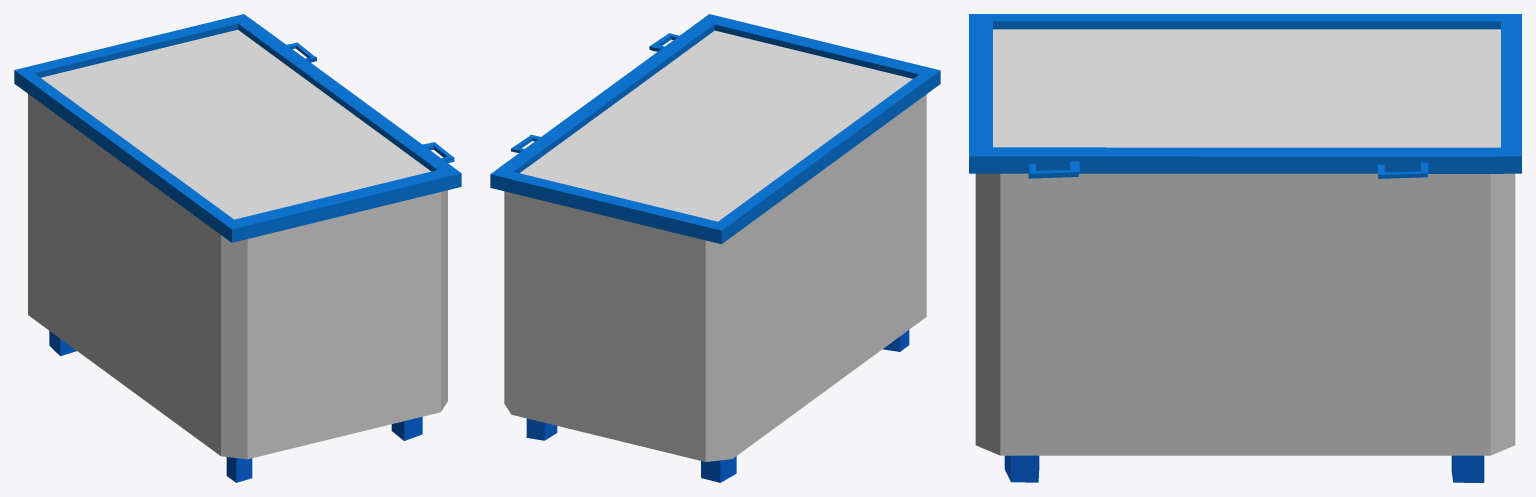
File: shopChestFreezer.fbx
3 renders of one model, left to right at view 1: azimuth 30°, elevation 25°; view 2: azimuth 150°, elevation 25°; view 3: azimuth 270°, elevation 25°, orthographic. The views are drawn at different scales.
Visible parts, largest first — view 1: Cube, Plane, Cube.001; view 2: Cube, Plane, Cube.001; view 3: Cube, Plane, Cube.001.
Boxes of the visible parts, box(x1,y1,x2,y2) form: Cube: box(28, 94, 447, 482); Plane: box(41, 29, 430, 219); Cube.001: box(14, 14, 461, 242); Cube: box(504, 94, 926, 482); Plane: box(520, 30, 912, 221); Cube.001: box(490, 14, 940, 244); Cube: box(975, 173, 1515, 482); Plane: box(993, 29, 1500, 147); Cube.001: box(969, 14, 1521, 178).
Bounding box in the file's own units: 106 × 111 × 163.
